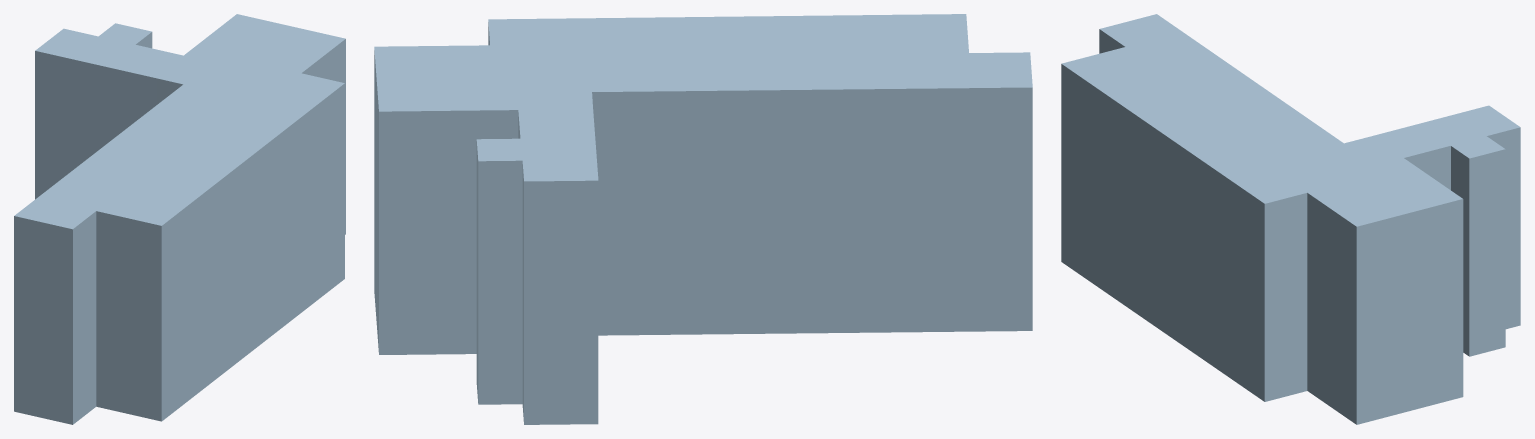
File: osm_way_225198910.glb
3 views of the same model, side by side, from view 1: azimuth 30°, elevation 25°; view 2: azimuth 150°, elevation 25°; view 3: azimuth 270°, elevation 25° (orthographic). The views are drawn at different scales.
Parts seen in each view (by area): view 1: osm_way_225198910; view 2: osm_way_225198910; view 3: osm_way_225198910.
Boxes of the visible parts, bbox=[...] form: osm_way_225198910: bbox=[14, 14, 345, 424]; osm_way_225198910: bbox=[374, 14, 1032, 424]; osm_way_225198910: bbox=[1061, 14, 1520, 424].
Bounding box in the file's own units: 44.21 × 19.2 × 40.33.
